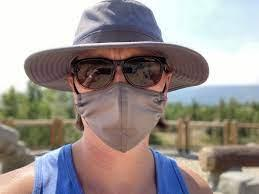cap: (20, 1, 213, 91)
mask: (76, 82, 172, 157)
sunglasses: (68, 47, 171, 90)
